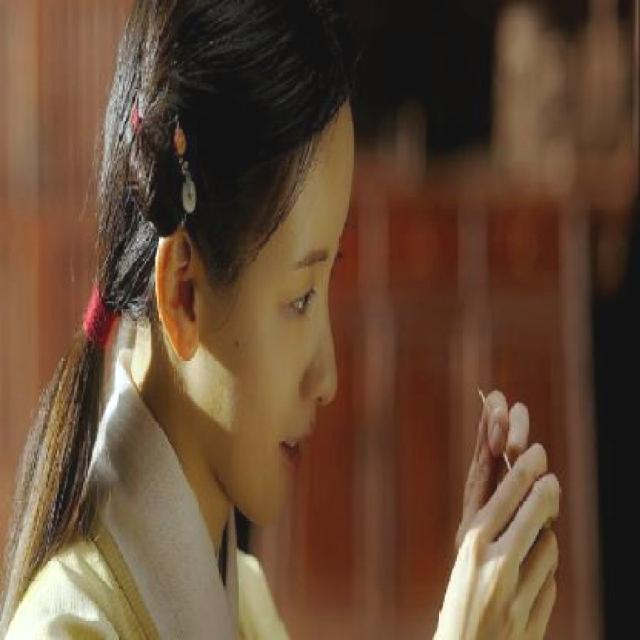face_nomask: (217, 186, 372, 512)
hand_noglove: (437, 442, 561, 638), (451, 388, 534, 574)
head_nohelmet: (118, 22, 384, 190)
person: (17, 6, 409, 640)
